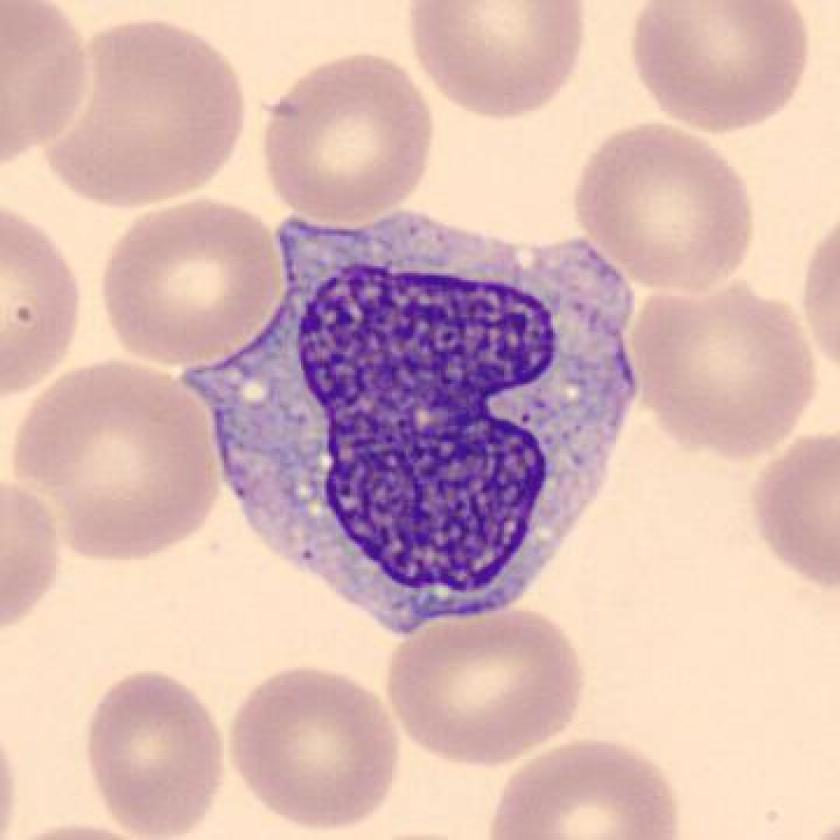monocyte: (174, 200, 659, 649)
